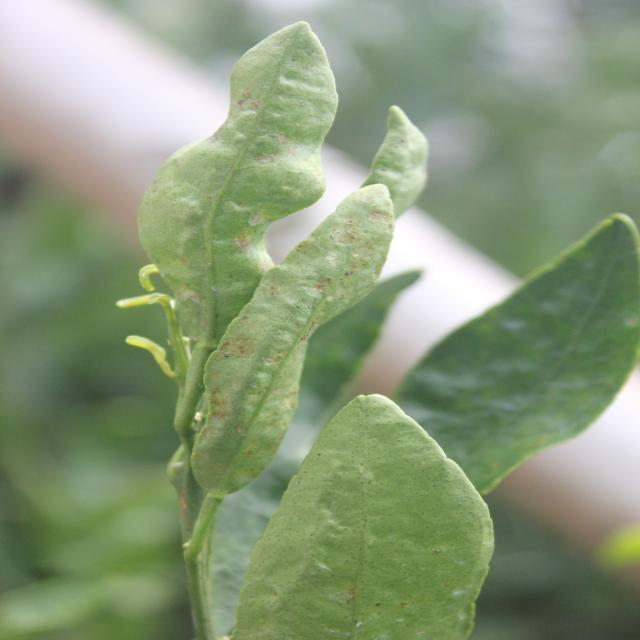canker: (190, 209, 378, 483), (162, 58, 336, 281)
